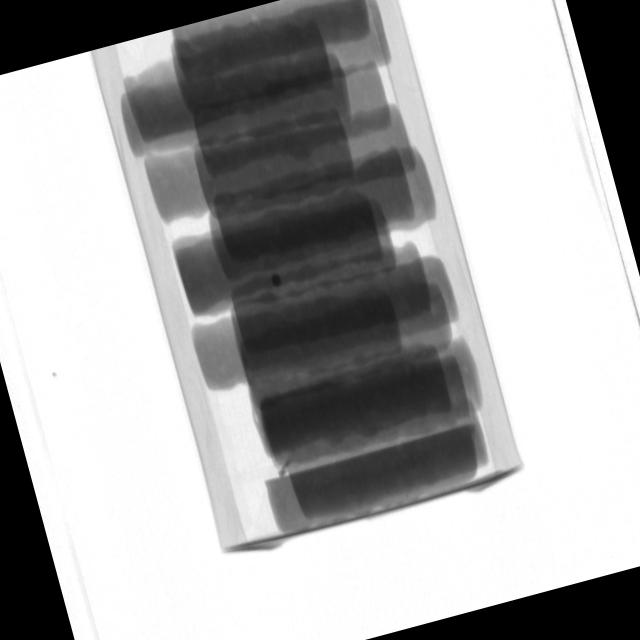ym: (277, 459, 294, 476), (272, 275, 283, 288)
